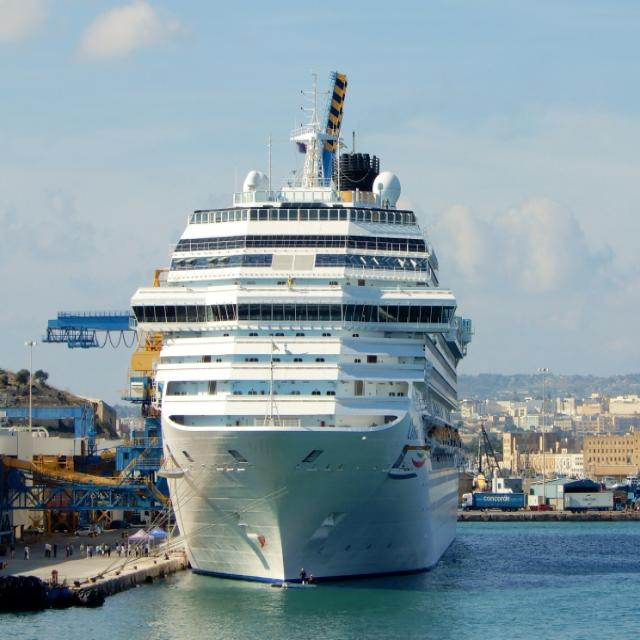cruises: (127, 58, 476, 589)
